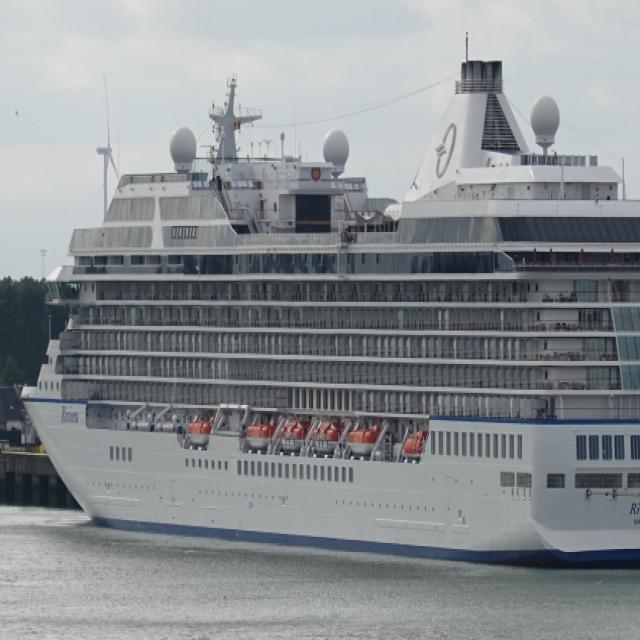cruises: (17, 56, 640, 579)
